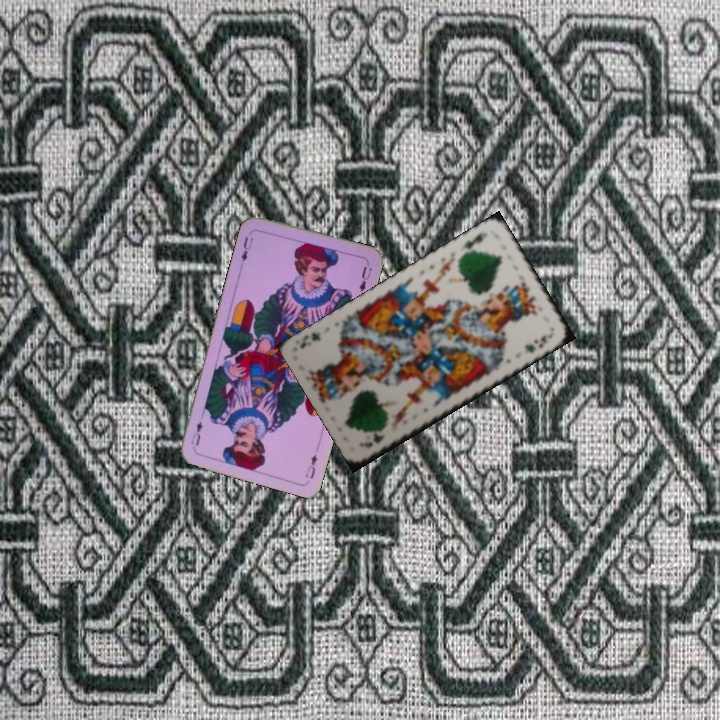EU: (237, 232, 256, 264), (301, 450, 320, 481)
GK: (457, 228, 489, 253), (360, 430, 387, 448)
